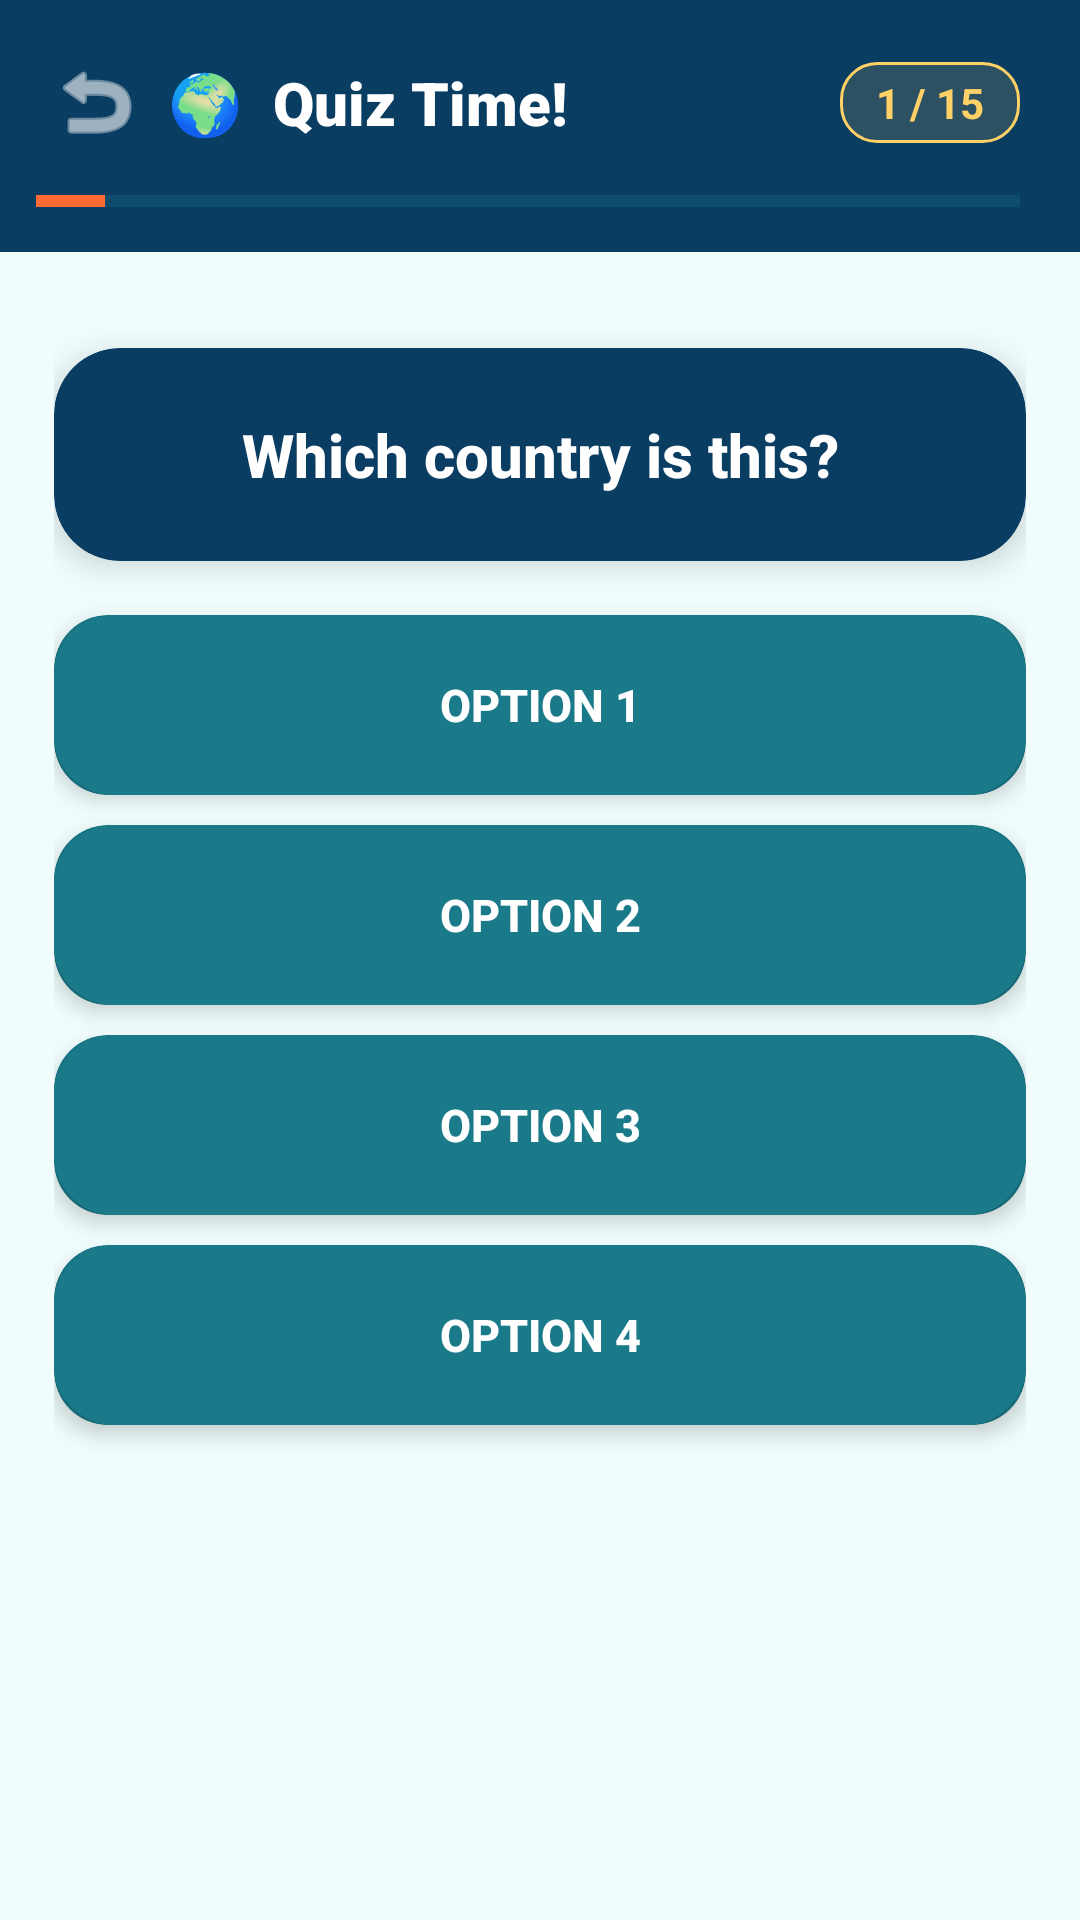

Locate icon controls on the screen. Image size 1080×1920, boxes as (x1, y1, x2, y2).
Back: (63, 71, 132, 134)
